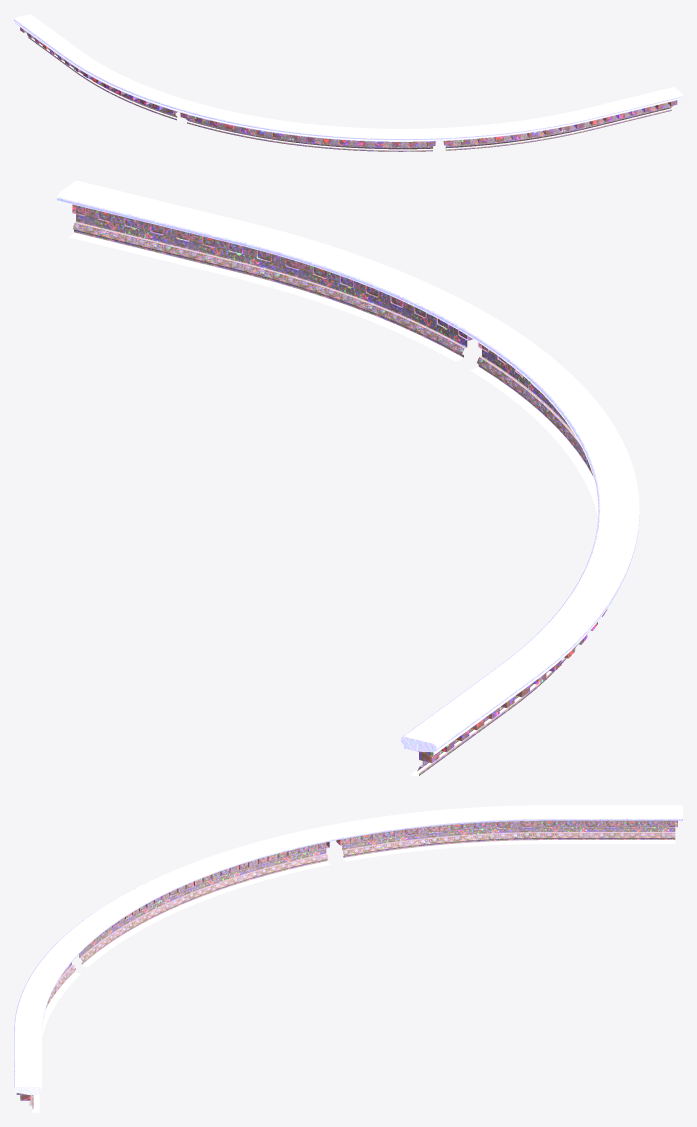
File: trim_crown_corner_large_SM.fbx
3 renders of one model, top to bottom at view 1: azimuth 30°, elevation 25°; view 2: azimuth 150°, elevation 25°; view 3: azimuth 270°, elevation 25°, orthographic. The views are drawn at different scales.
Parts seen in each view (by area): view 1: trim_crown_corner_large_SM_LOD0; view 2: trim_crown_corner_large_SM_LOD0; view 3: trim_crown_corner_large_SM_LOD0.
Boxes of the visible parts, bbox=[...] form: trim_crown_corner_large_SM_LOD0: bbox=[14, 14, 682, 151]; trim_crown_corner_large_SM_LOD0: bbox=[57, 180, 639, 776]; trim_crown_corner_large_SM_LOD0: bbox=[14, 805, 682, 1112].
Bounding box in the file's own units: 2098 × 2098 × 100.
Materials: 3 (2 with a texture image).
